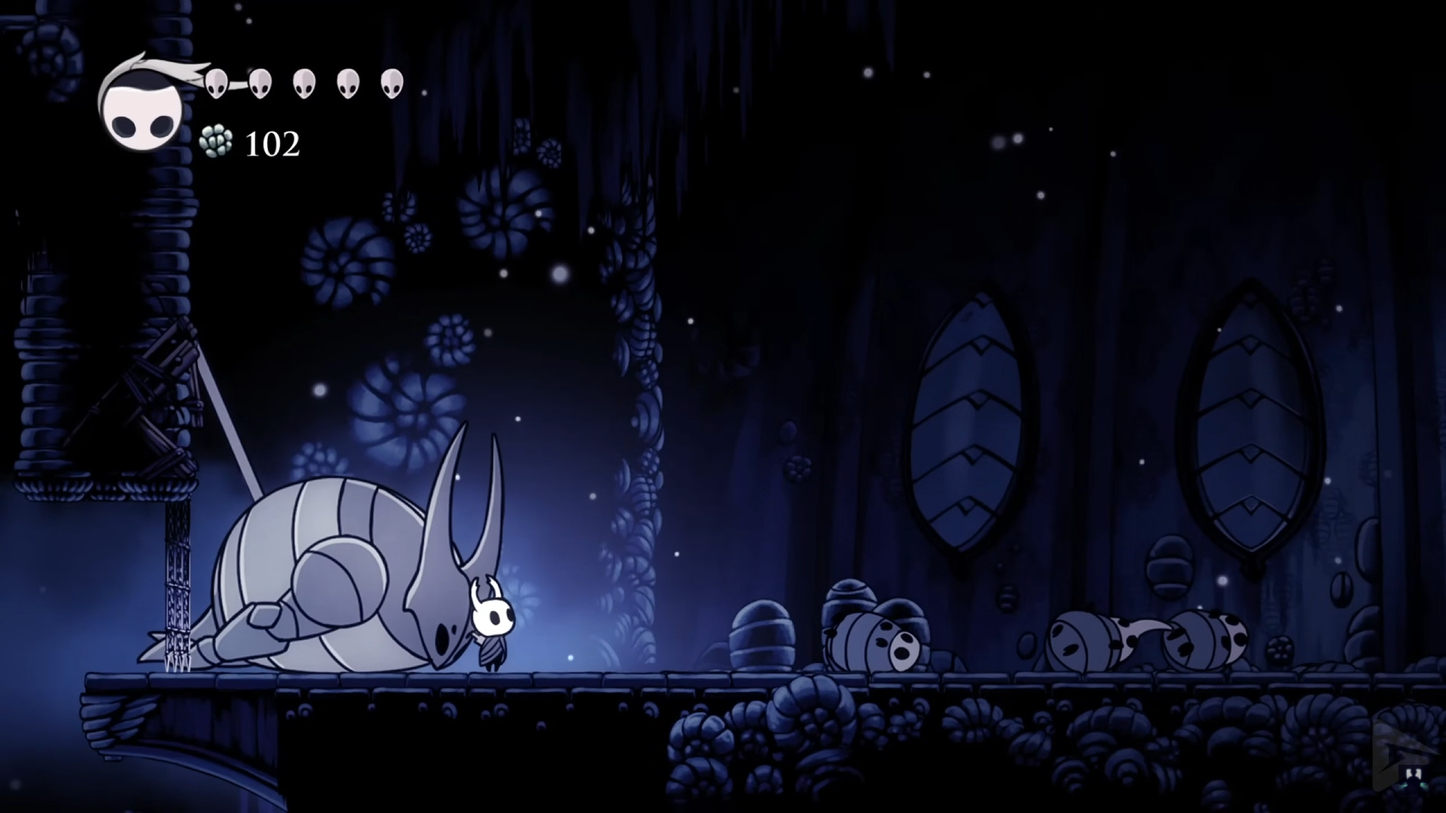HK: (461, 572, 522, 676)
